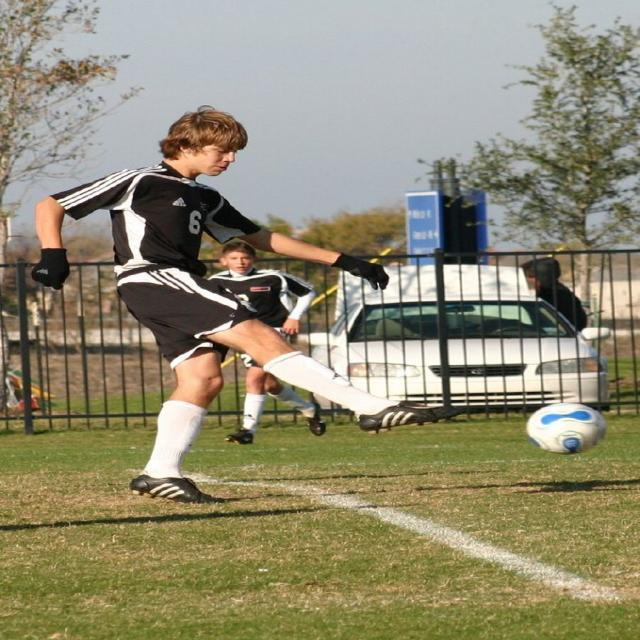football: (517, 384, 622, 461)
